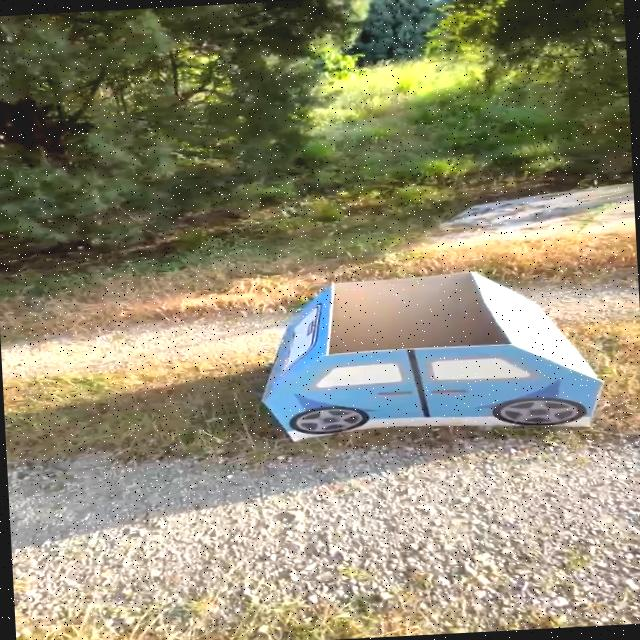blue_car: (238, 263, 607, 481)
